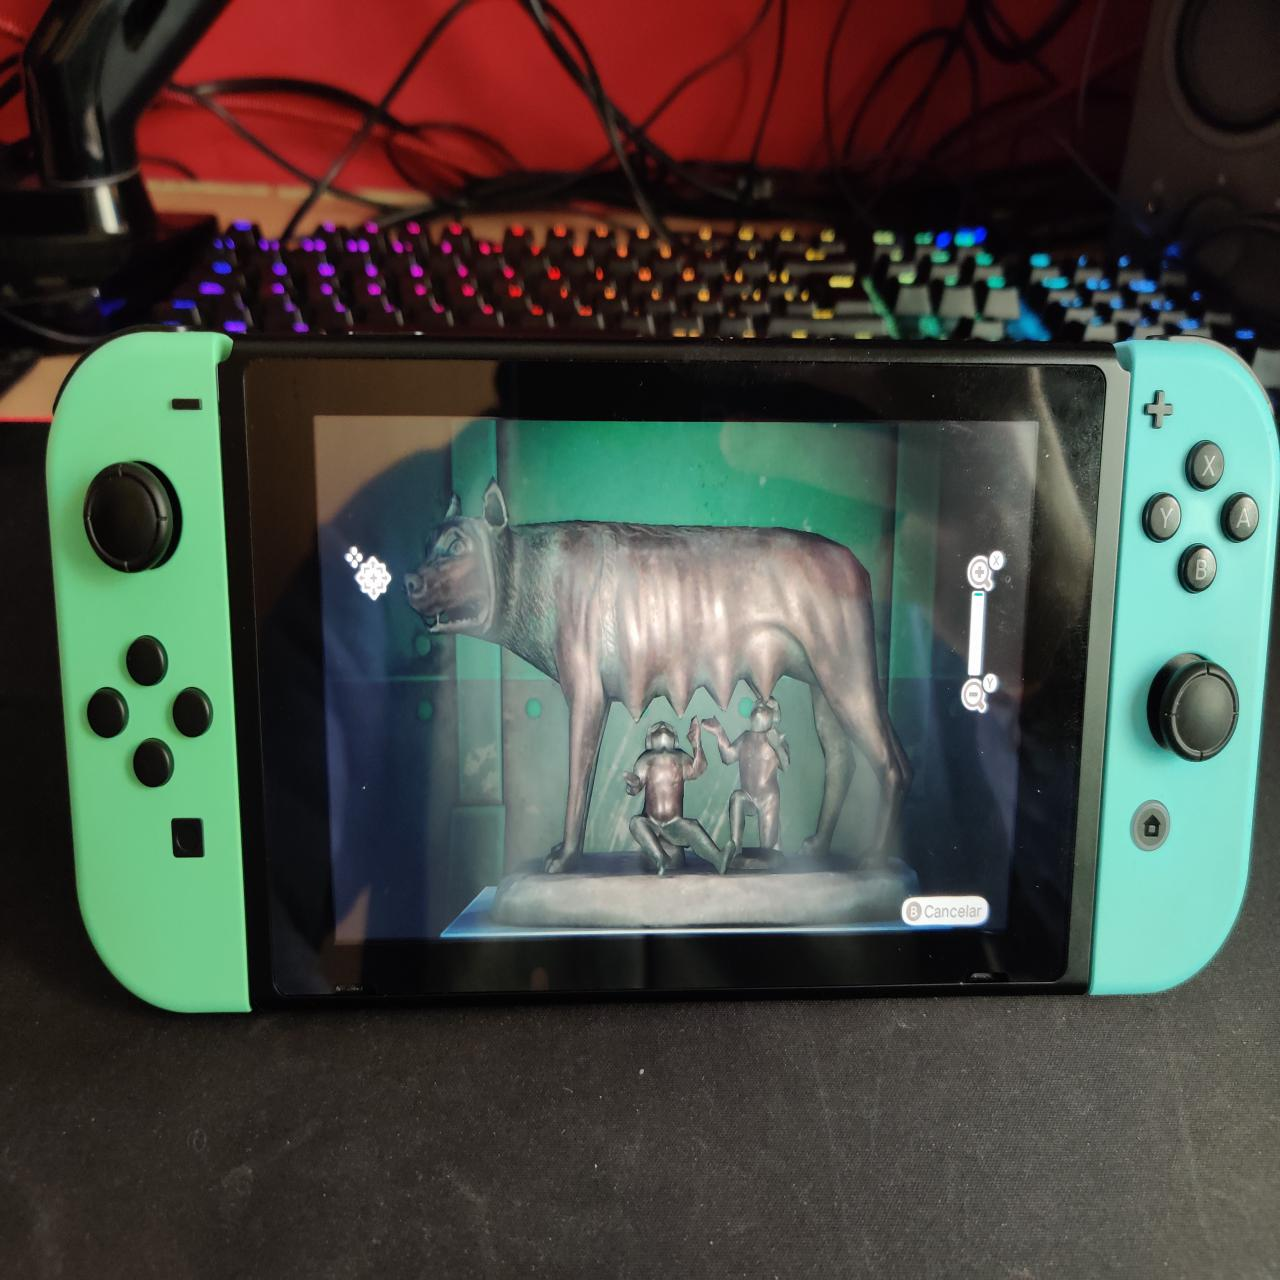Capitolini: (406, 481, 915, 877)
